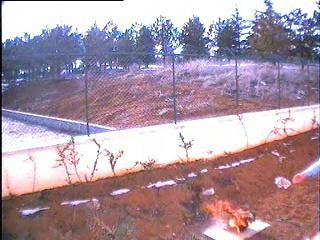fire: (202, 194, 257, 231)
